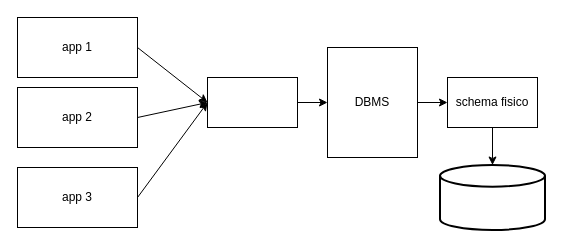
Some shapes in this 563 by 248 pixel diagram are drawn without their labels. The shapes that lost their labels are listed below. From the top down, each one's centre as x and y in pixels, then its label:
At point 252,102: "schema logico".
At point 492,197: "files".
